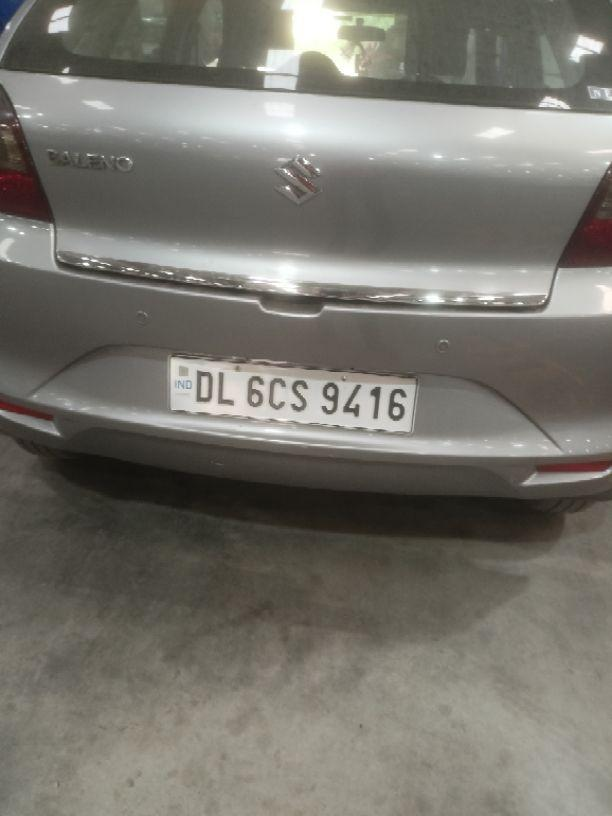license_plate: (167, 351, 419, 434)
